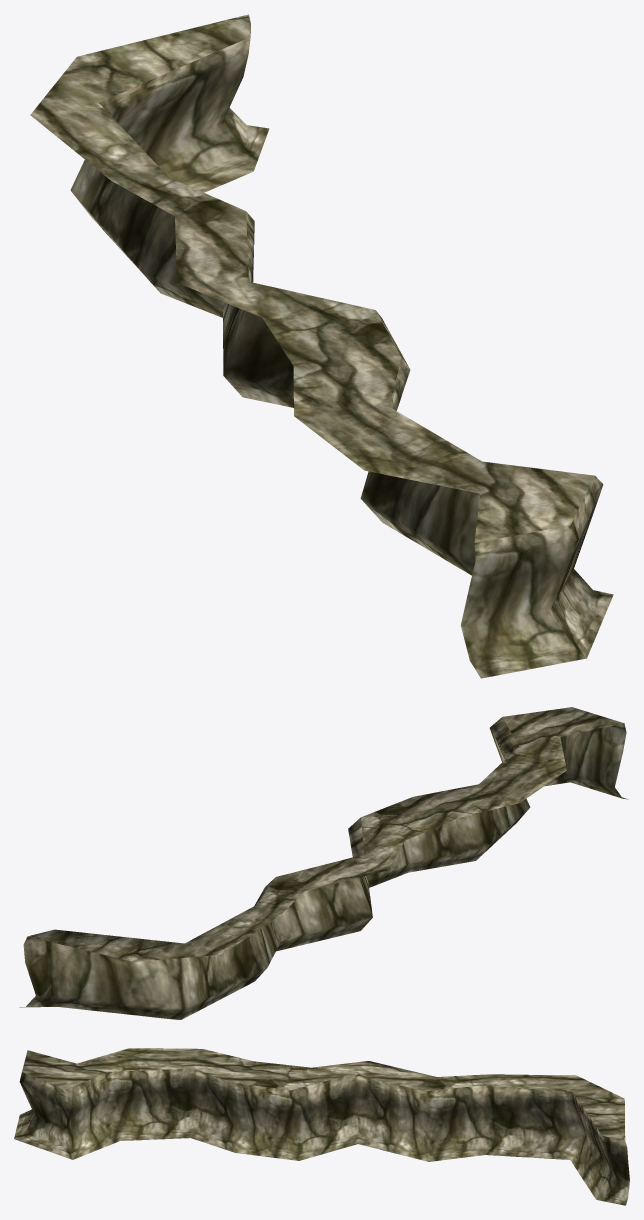
The model's file is CB_NEWPLAYSURFACE_CB_PLAYSURFACE73.fbx.
3 renders of one model, top to bottom at view 1: azimuth 30°, elevation 25°; view 2: azimuth 150°, elevation 25°; view 3: azimuth 270°, elevation 25°, orthographic. The views are drawn at different scales.
Parts seen in each view (by area): view 1: CB_NEWPLAYSURFACE_CB_PLAYSURFACE73; view 2: CB_NEWPLAYSURFACE_CB_PLAYSURFACE73; view 3: CB_NEWPLAYSURFACE_CB_PLAYSURFACE73.
Part boxes in pixels (x1=…): CB_NEWPLAYSURFACE_CB_PLAYSURFACE73: x1=30, y1=14, x2=613, y2=678; CB_NEWPLAYSURFACE_CB_PLAYSURFACE73: x1=19, y1=707, x2=628, y2=1019; CB_NEWPLAYSURFACE_CB_PLAYSURFACE73: x1=14, y1=1048, x2=629, y2=1205.
Bounding box in the file's own units: 114720 × 35509 × 304790.
2 materials, 2 textured.
